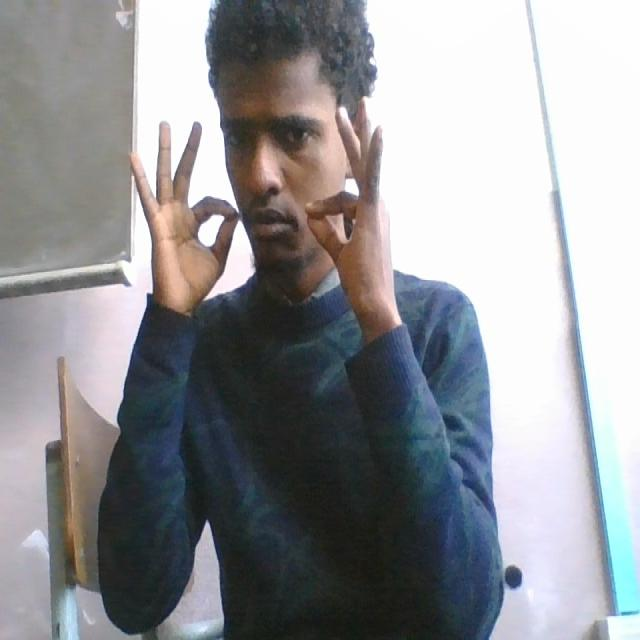dmet: (129, 95, 394, 318)
